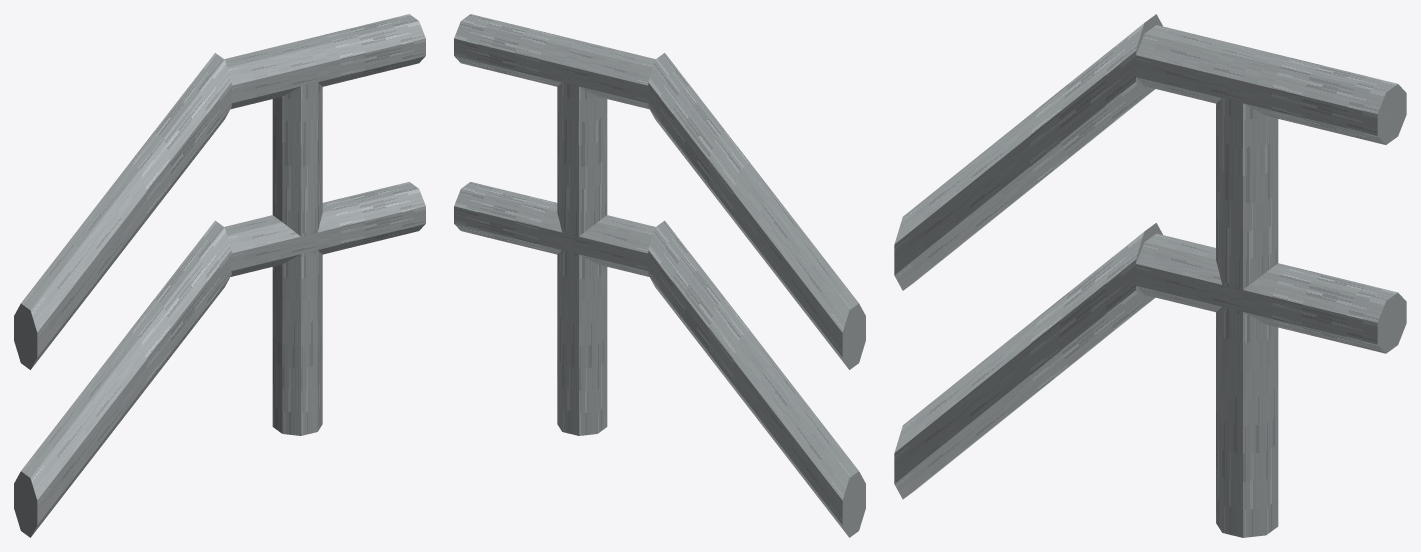
The model's file is top_pos.obj.
3 renders of one model, left to right at view 1: azimuth 30°, elevation 25°; view 2: azimuth 150°, elevation 25°; view 3: azimuth 330°, elevation 25°, orthographic. The views are drawn at different scales.
Visible parts, largest first — view 1: railing_pipe_galvanized_top_pos; view 2: railing_pipe_galvanized_top_pos; view 3: railing_pipe_galvanized_top_pos.
Part boxes in pixels (x1,y1,x2,y2): railing_pipe_galvanized_top_pos: (14, 14, 425, 537); railing_pipe_galvanized_top_pos: (454, 14, 865, 537); railing_pipe_galvanized_top_pos: (894, 14, 1406, 537).
Bounding box in the file's own units: 1 × 1.06 × 0.1039.
